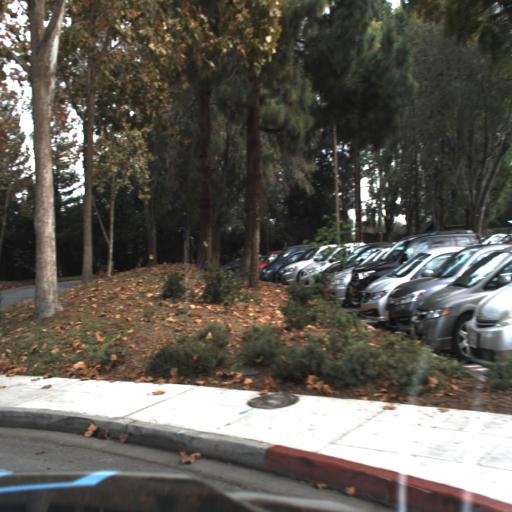car: (384, 248, 512, 339), (410, 248, 512, 360), (359, 247, 500, 328), (349, 230, 483, 312), (324, 245, 413, 305), (467, 279, 512, 370), (298, 244, 366, 291), (281, 244, 345, 288), (261, 246, 327, 285)
